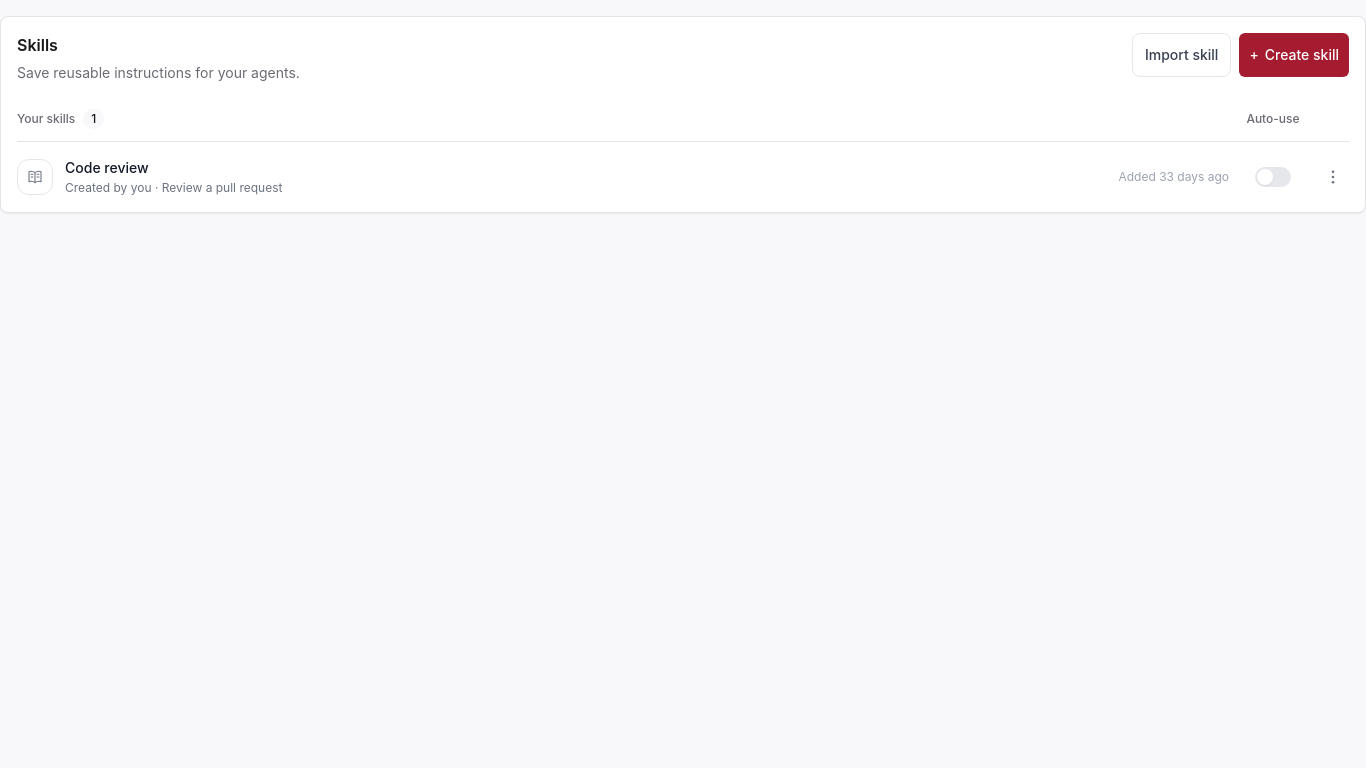
Scenario: opens the current instructions for editing from the menu
The width and height of the screenshot is (1366, 768).
Click the button named "Manage Code review": coordinates (1333, 177) left=1317, top=161, right=1349, bottom=193
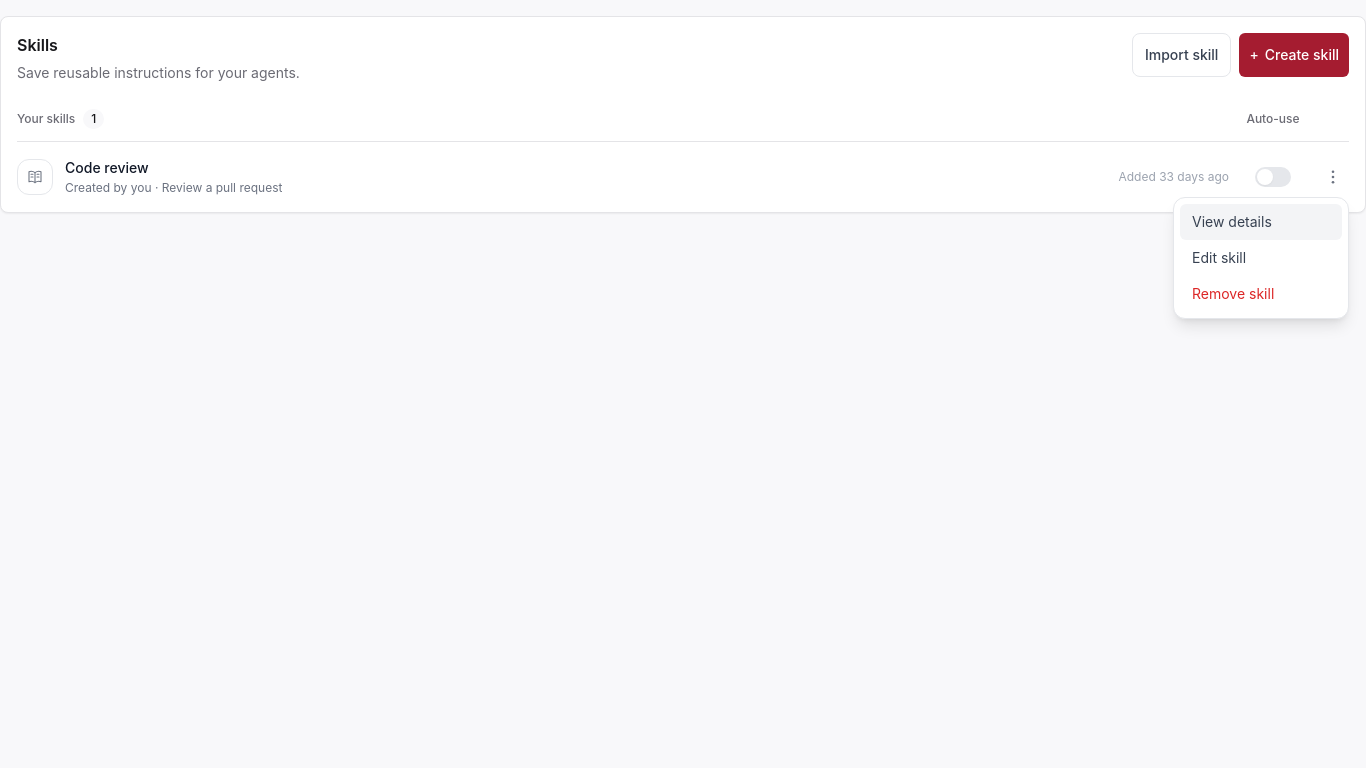
Click the menu item "Edit skill": coordinates (1261, 258) left=1180, top=240, right=1342, bottom=276
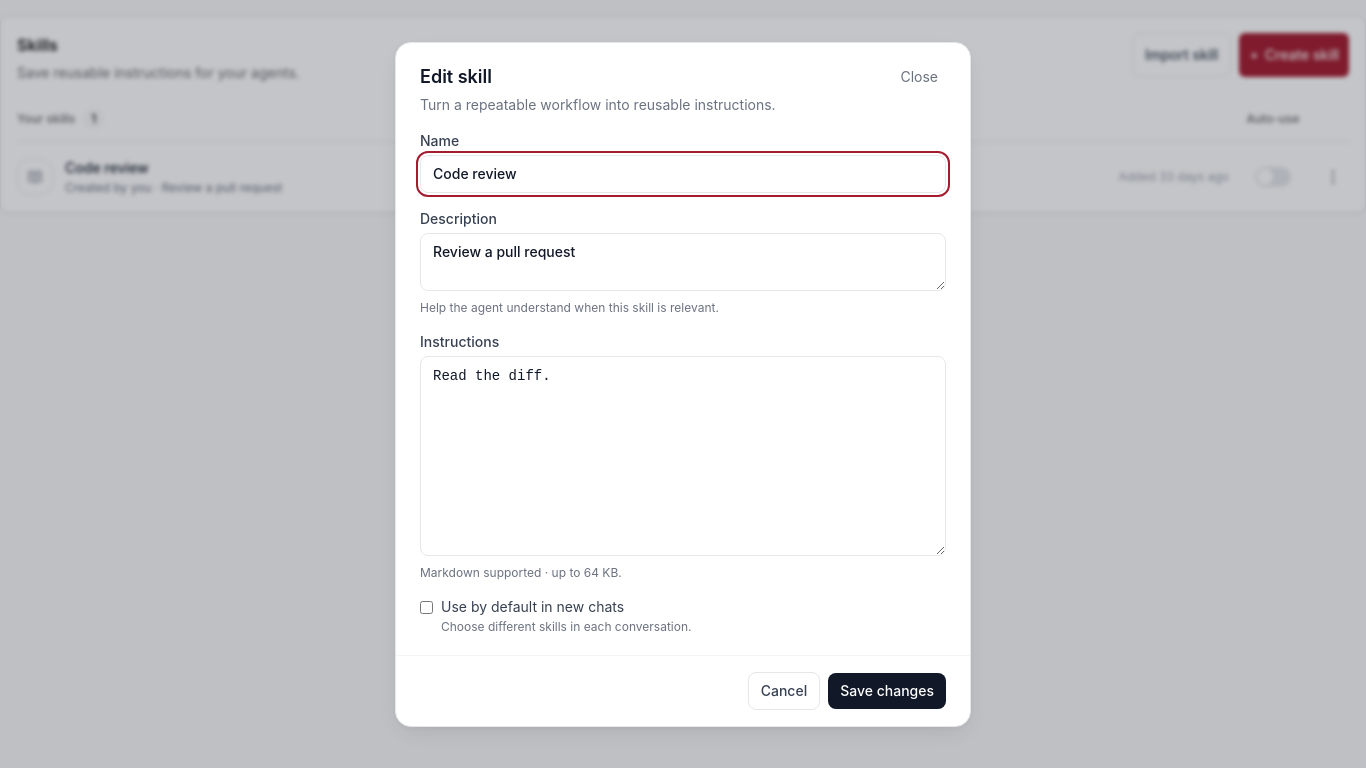
Check: the text box labelled "Instructions Markdown supported · up to 64 KB." holds "Read the diff.", box left=420, top=356, right=946, bottom=556
Check: the menu is gone
